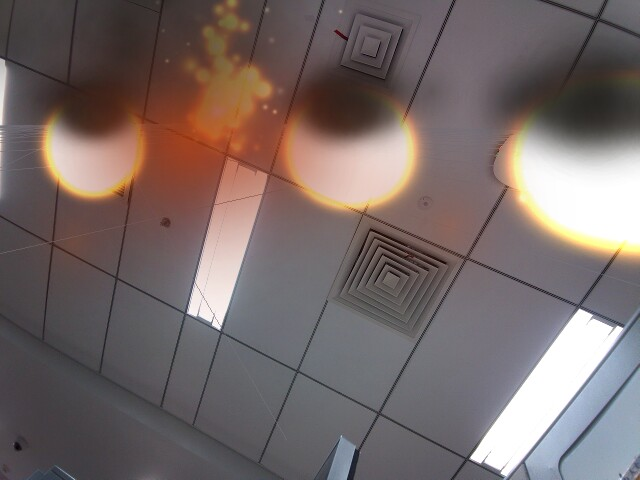fire: (508, 67, 633, 258), (278, 75, 425, 212), (38, 91, 148, 197)
